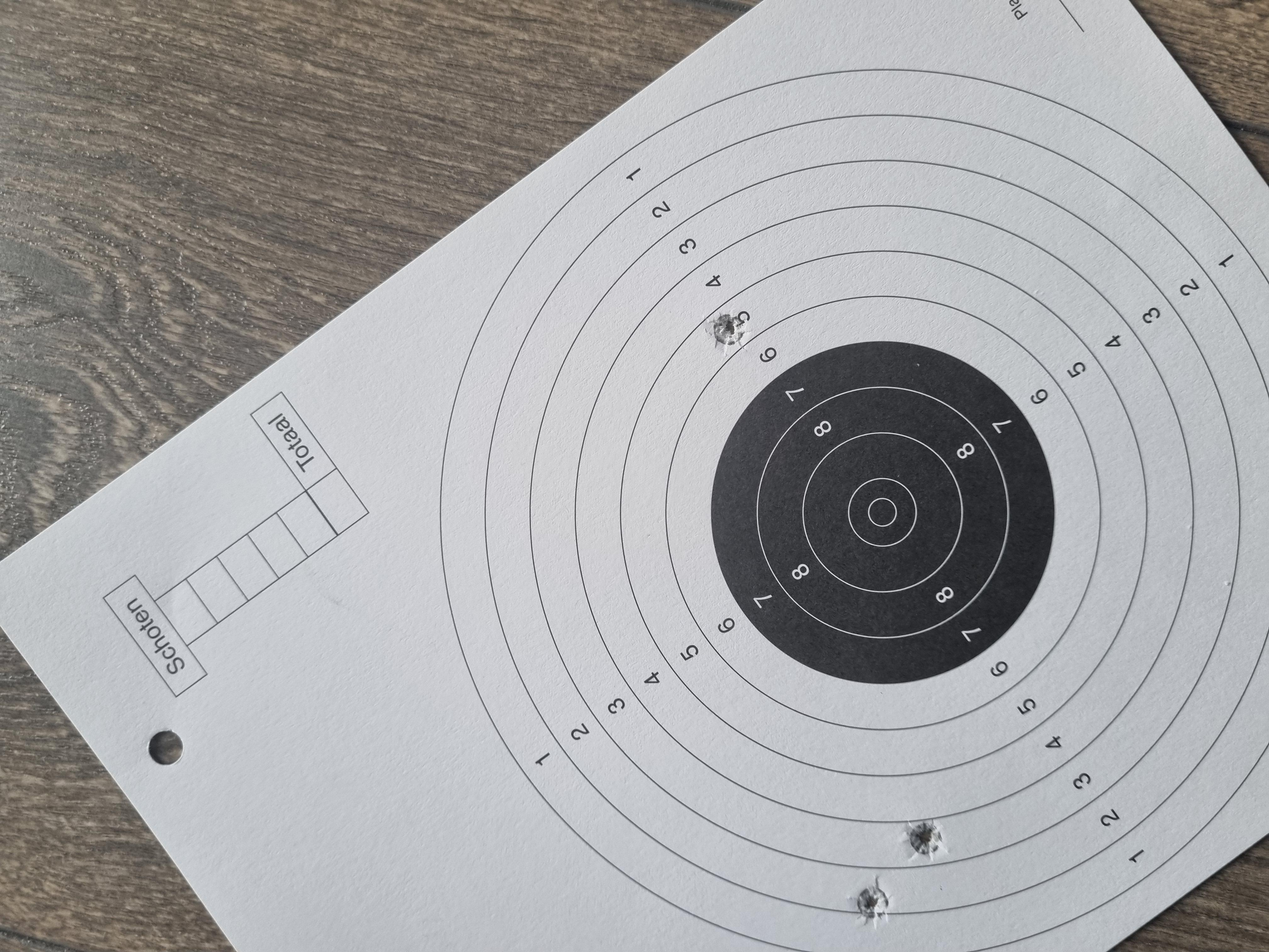hole: (803, 534, 861, 562), (122, 682, 176, 710), (38, 641, 96, 667)
